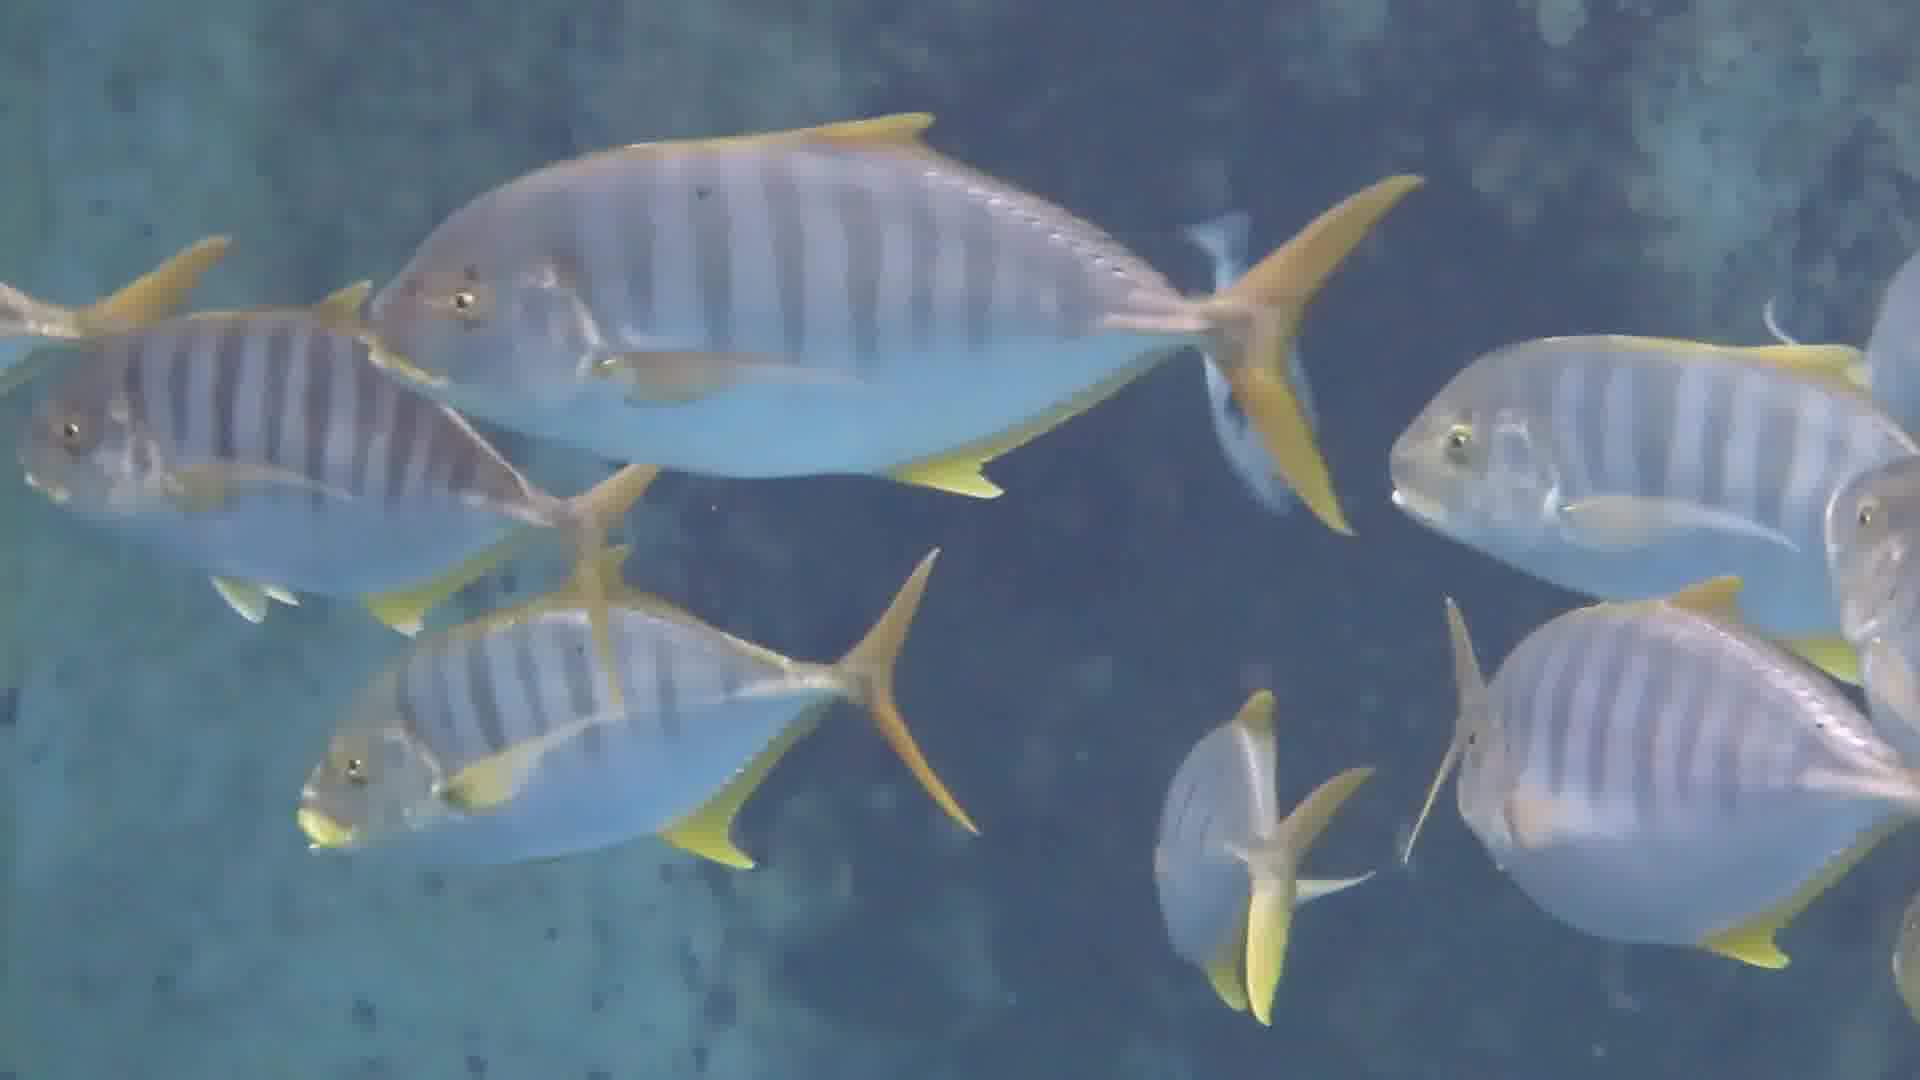Gnathanodon speciosus: (367, 187, 1327, 491), (22, 310, 637, 645), (284, 593, 975, 890), (1414, 636, 1911, 957), (1394, 348, 1900, 637)
